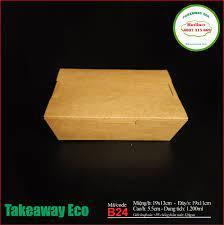box: (44, 67, 189, 140)
